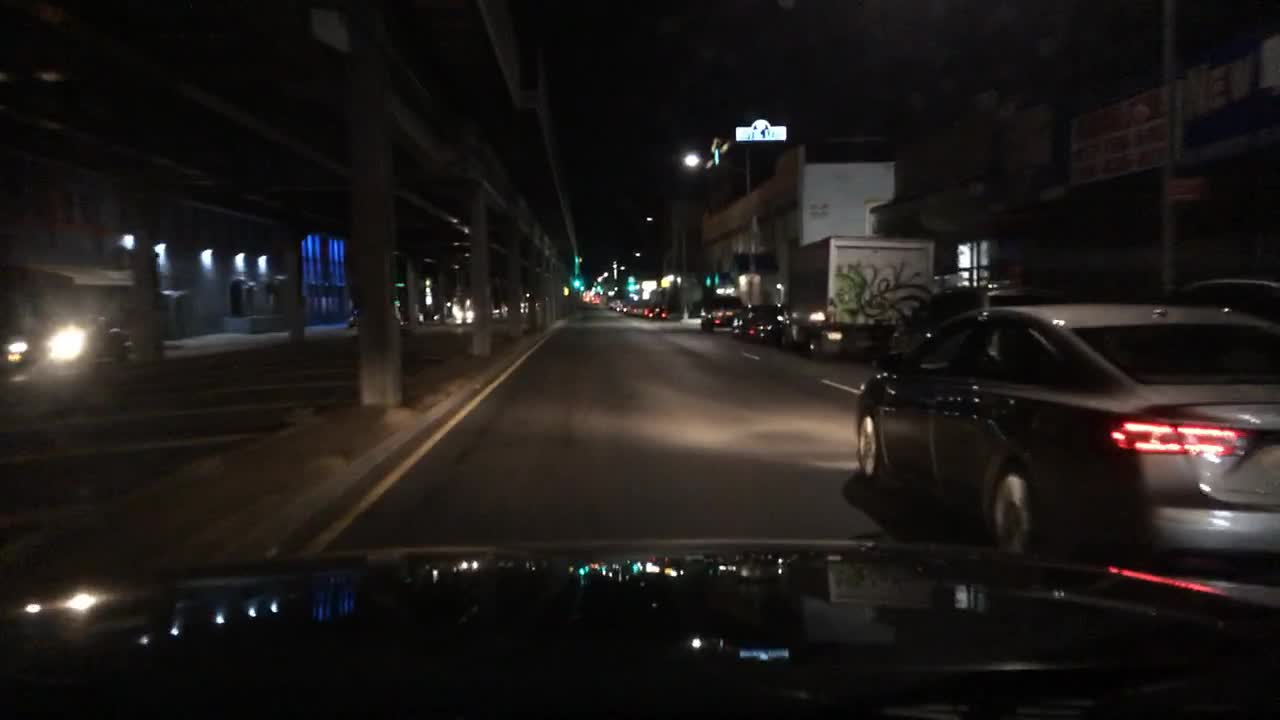car: (850, 276, 1279, 560), (880, 278, 1022, 360), (0, 315, 138, 369), (811, 320, 906, 358), (784, 305, 831, 346), (696, 293, 744, 332), (734, 304, 786, 339), (452, 306, 475, 330), (418, 305, 440, 325), (489, 303, 512, 321), (647, 302, 666, 319), (587, 291, 604, 308), (516, 301, 534, 316), (347, 308, 362, 323), (607, 299, 624, 312), (629, 300, 644, 314)
traffic light: (625, 276, 635, 291), (571, 276, 581, 290)
traffic sign: (1166, 176, 1202, 199)
truck: (791, 233, 933, 327)
